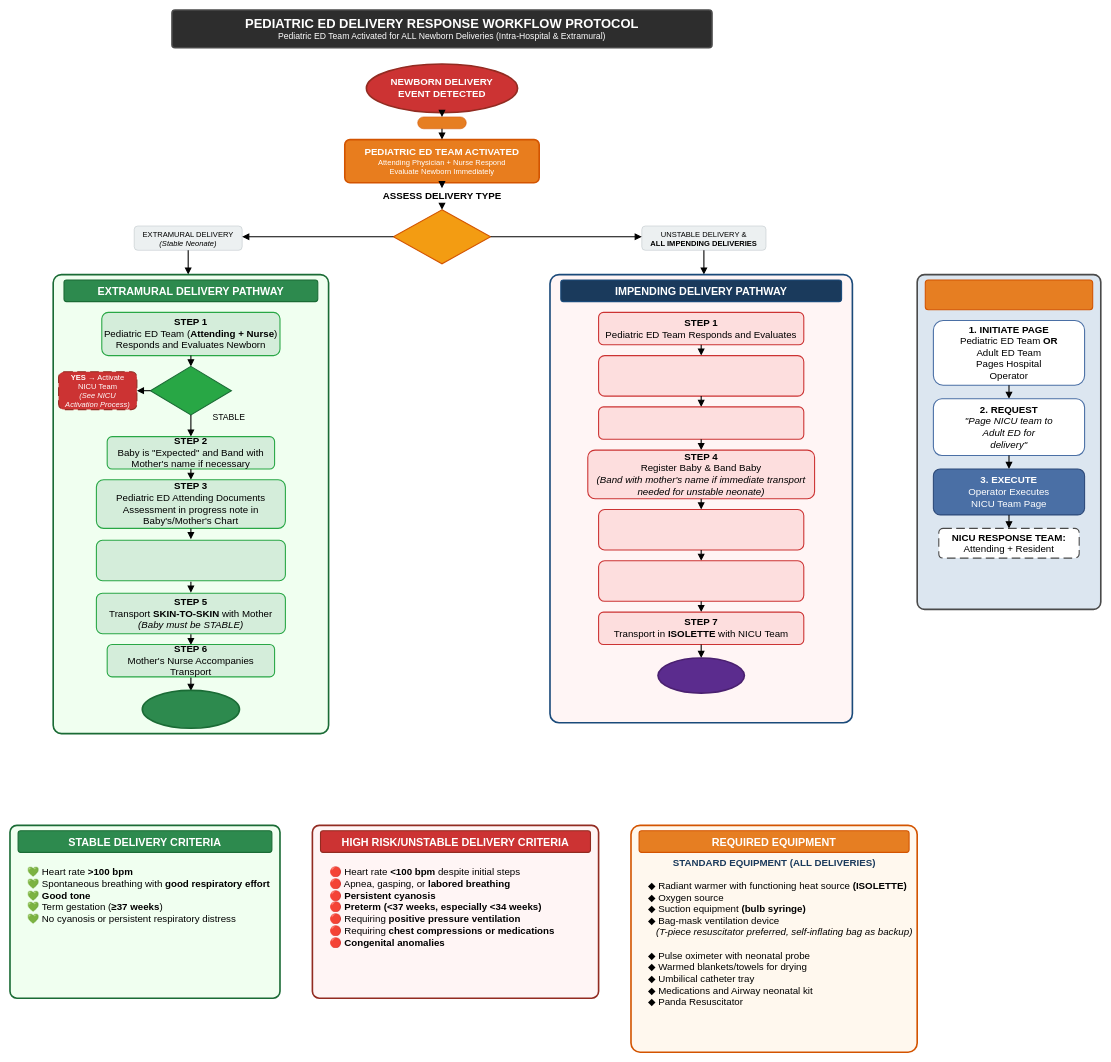
Image size: 1111x1062. Some labels were removed from this diagram. The shapes that lost their labels are listed below. From the top down, each one's box as (x1, y1, x2, y2) in pixels, then its label:
(417, 116, 466, 129): IMMEDIATE
(393, 209, 491, 264): DELIVERY CLASSIFICATION
(924, 279, 1093, 310): NICU TEAM ACTIVATION PROCESS
(150, 366, 232, 415): High Risk or Unstable?
(598, 355, 804, 396): STEP 2 NICU Team Activated and Responds ( Attending + Resident )
(598, 406, 804, 440): STEP 3 NICU Team ASSUMES CARE Upon Arrival
(598, 509, 804, 550): STEP 5 Pediatric ED Attending Documents Assessment in Baby's Chart
(96, 539, 286, 581): STEP 4 Change Disposition on EPIC to Admit to NICU/Nursery
(598, 560, 804, 602): STEP 6 Change Disposition on EPIC to Admit to NICU/Nursery
(657, 657, 745, 694): NICU CARE TRANSFER
(141, 689, 240, 729): STABLE PATHWAY COMPLETE
